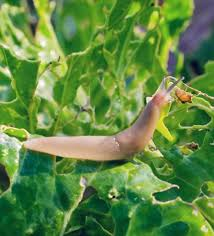slug: (29, 76, 182, 158)
